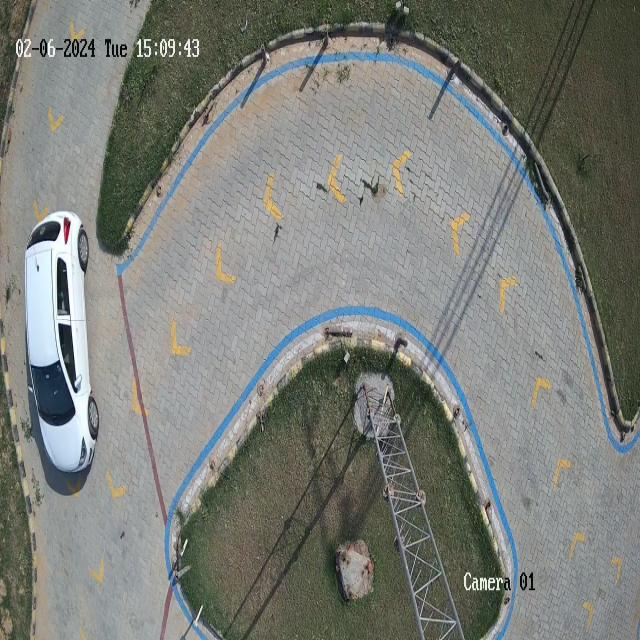car: (22, 212, 96, 476)
